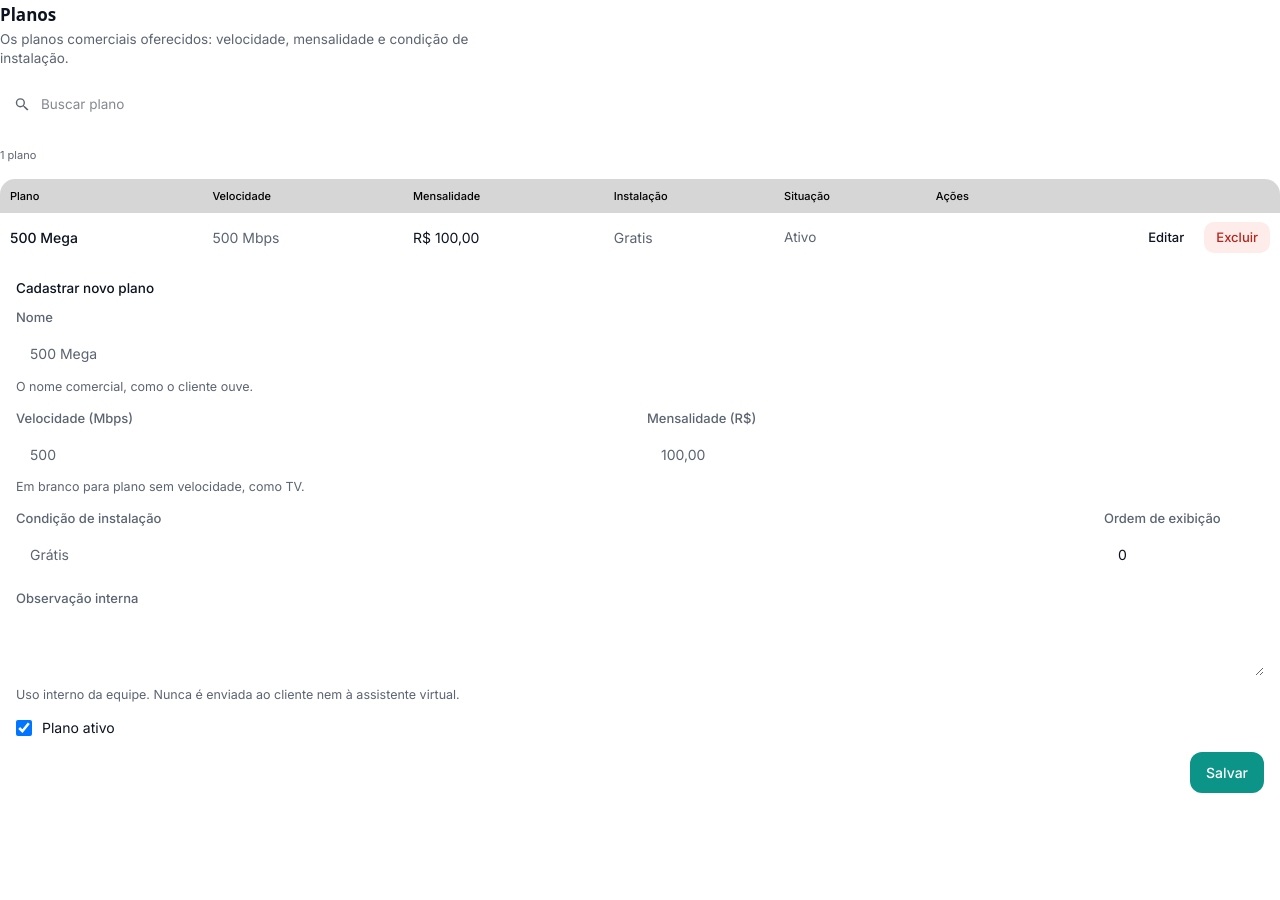
Scenario: PlansAdminTab › editar abre o formulario com o plano da linha
Click the button "Editar" at (1166, 237), box x1=1136 y1=222 x2=1196 y2=253
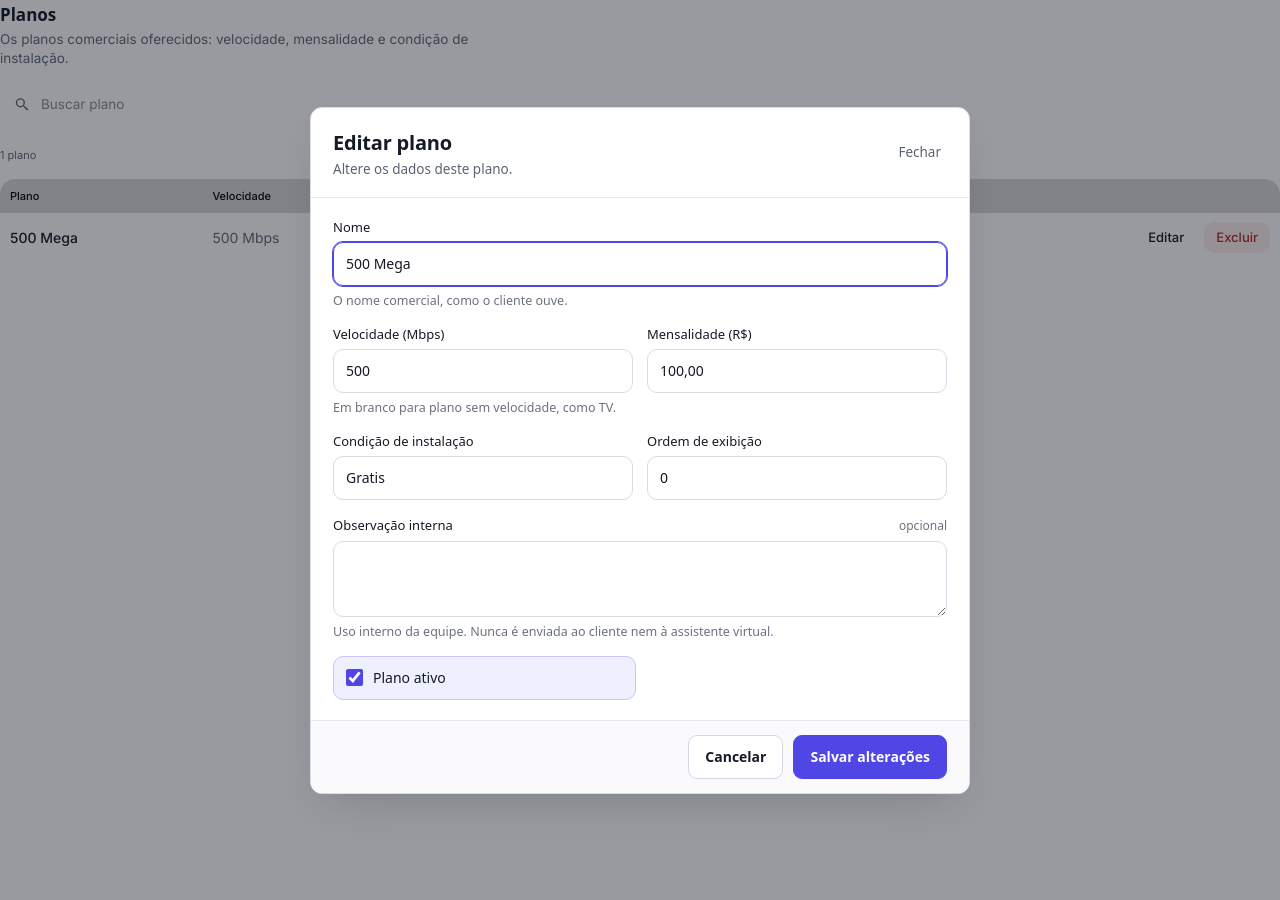
Now the dialog is shown, box x1=310 y1=106 x2=970 y2=794
Now the field labelled "Nome" holds "500 Mega", box x1=333 y1=242 x2=947 y2=286
